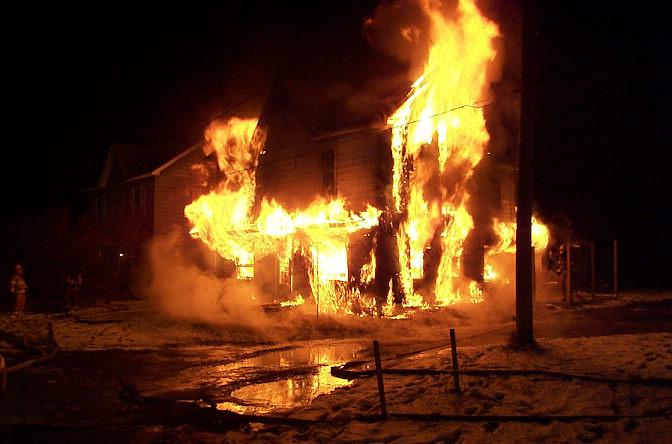fire: (387, 5, 569, 312), (192, 93, 381, 310)
